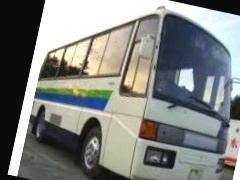bus: (19, 0, 240, 180)
